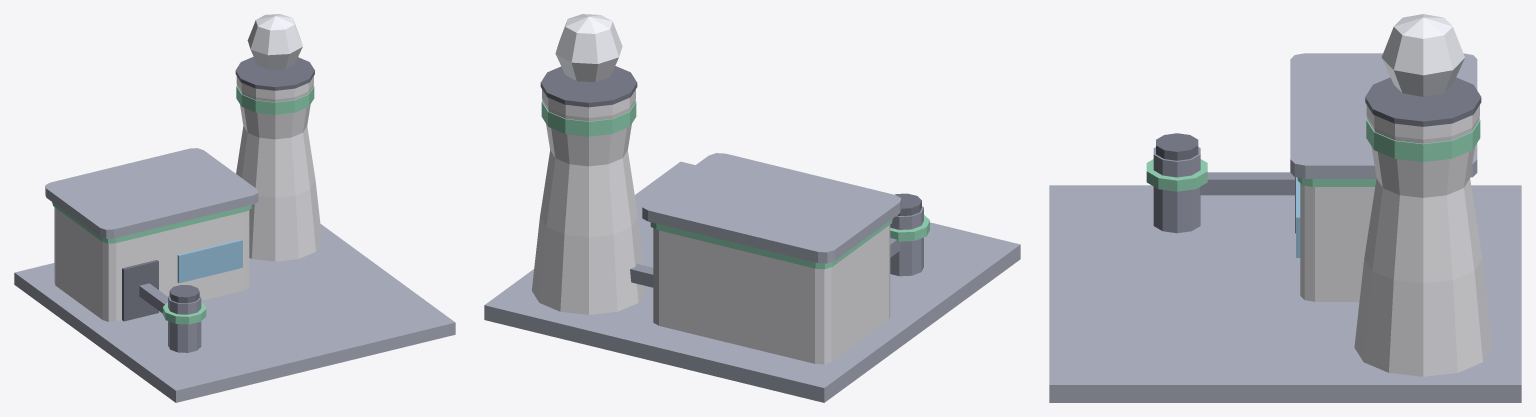
The model's file is geothermal-1x1-t1-tone-a.glb.
The picture shows the model from 3 angles, left to right: view 1: azimuth 30°, elevation 25°; view 2: azimuth 150°, elevation 25°; view 3: azimuth 270°, elevation 25°; orthographic projection. The views are drawn at different scales.
Parts seen in each view (by area): view 1: geothermal-1x1-t1-tone-a; view 2: geothermal-1x1-t1-tone-a; view 3: geothermal-1x1-t1-tone-a.
Boxes of the visible parts, bbox=[...] form: geothermal-1x1-t1-tone-a: bbox=[14, 14, 455, 402]; geothermal-1x1-t1-tone-a: bbox=[484, 14, 1020, 402]; geothermal-1x1-t1-tone-a: bbox=[1049, 14, 1521, 402].
Size of the model in its own units: 0.96 by 0.78 by 0.96.
1 material, 1 textured.
